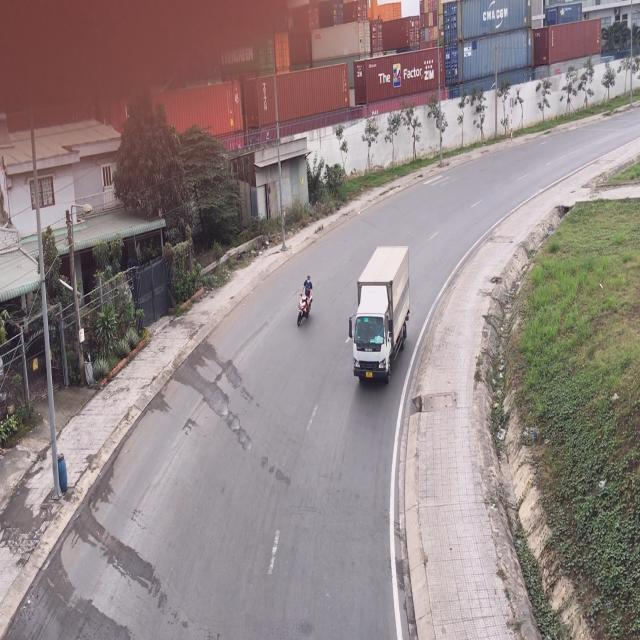motorbike: (294, 273, 312, 328)
truck: (347, 242, 407, 382)
